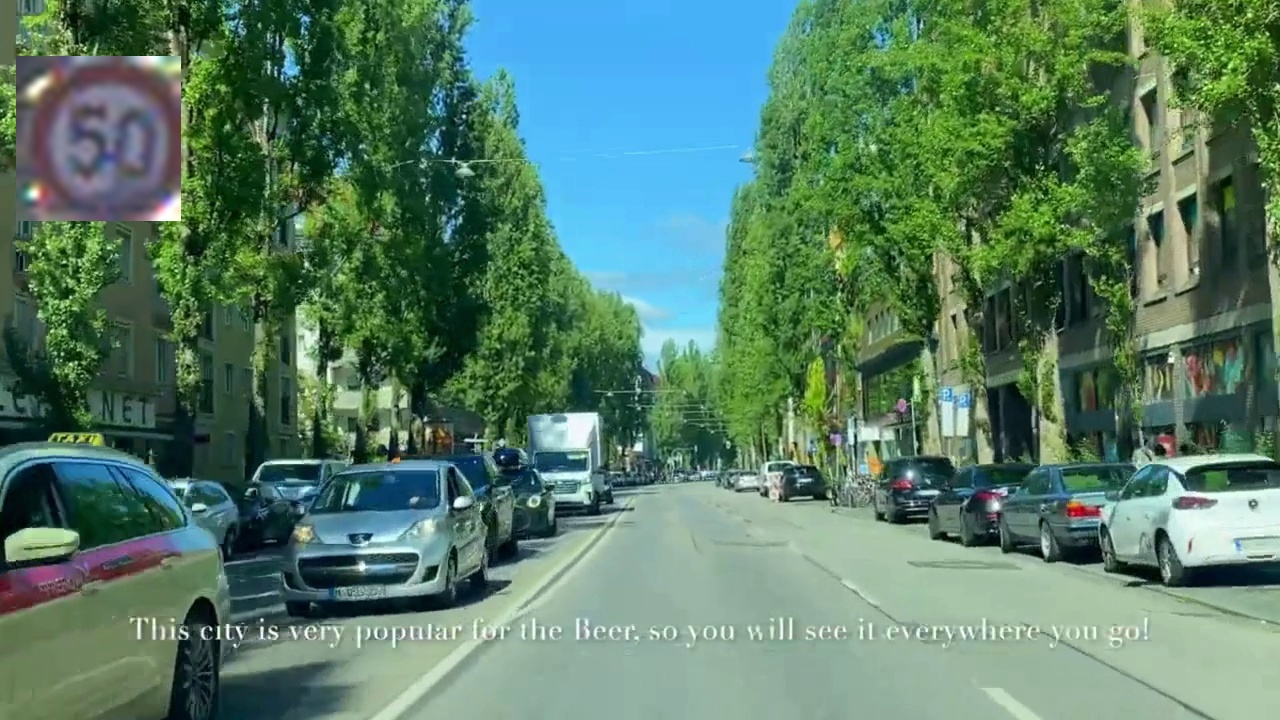Speed 50: (16, 56, 181, 221)
